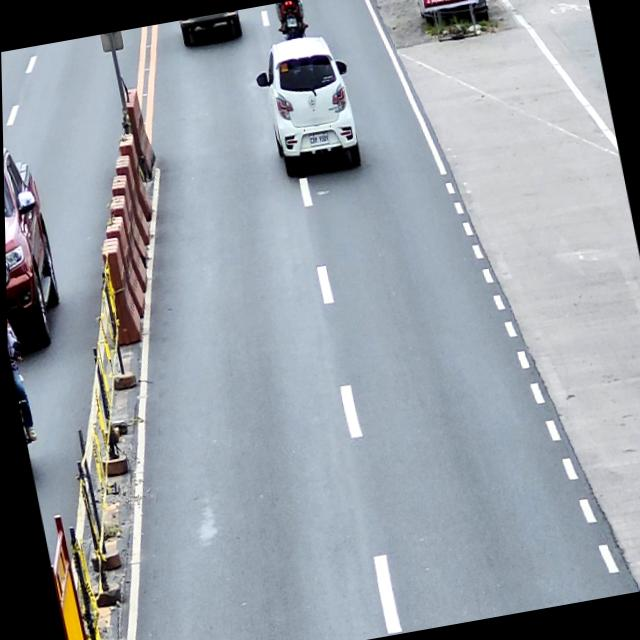Car: (248, 30, 366, 181), (2, 139, 67, 353), (179, 10, 243, 46)
License-Plate: (307, 132, 330, 148), (286, 16, 297, 28)
Motorcycle: (275, 0, 308, 42)
